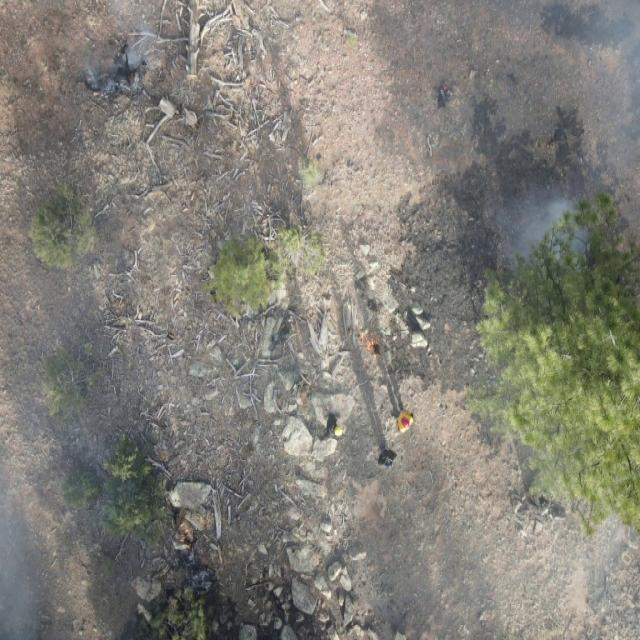fire: (168, 514, 198, 554), (352, 328, 385, 364)
smoke: (551, 0, 640, 122), (486, 192, 592, 276), (81, 16, 165, 106), (0, 512, 34, 638)
